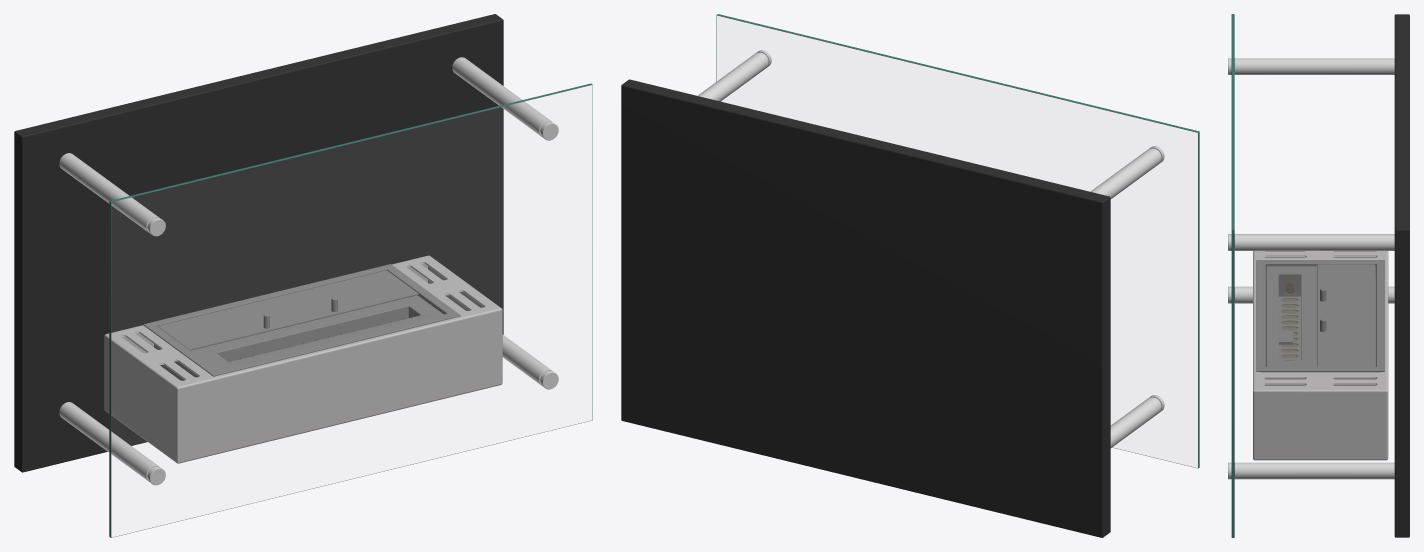
Rendered from bio-10-008_3.gltf.
The picture shows the model from 3 angles, left to right: view 1: azimuth 30°, elevation 25°; view 2: azimuth 150°, elevation 25°; view 3: azimuth 270°, elevation 25°; orthographic projection. The views are drawn at different scales.
Visible parts, largest first — view 1: 5be686fc-dc5c-423b-8e3c-c6e0b2f2ea82; view 2: 5be686fc-dc5c-423b-8e3c-c6e0b2f2ea82; view 3: 5be686fc-dc5c-423b-8e3c-c6e0b2f2ea82.
Boxes of the visible parts, x1,y1,x2,y2 form: 5be686fc-dc5c-423b-8e3c-c6e0b2f2ea82: (14, 14, 592, 537); 5be686fc-dc5c-423b-8e3c-c6e0b2f2ea82: (621, 14, 1199, 537); 5be686fc-dc5c-423b-8e3c-c6e0b2f2ea82: (1228, 14, 1409, 537).
Size of the model in its own units: 0.6 by 0.4 by 0.2137.
